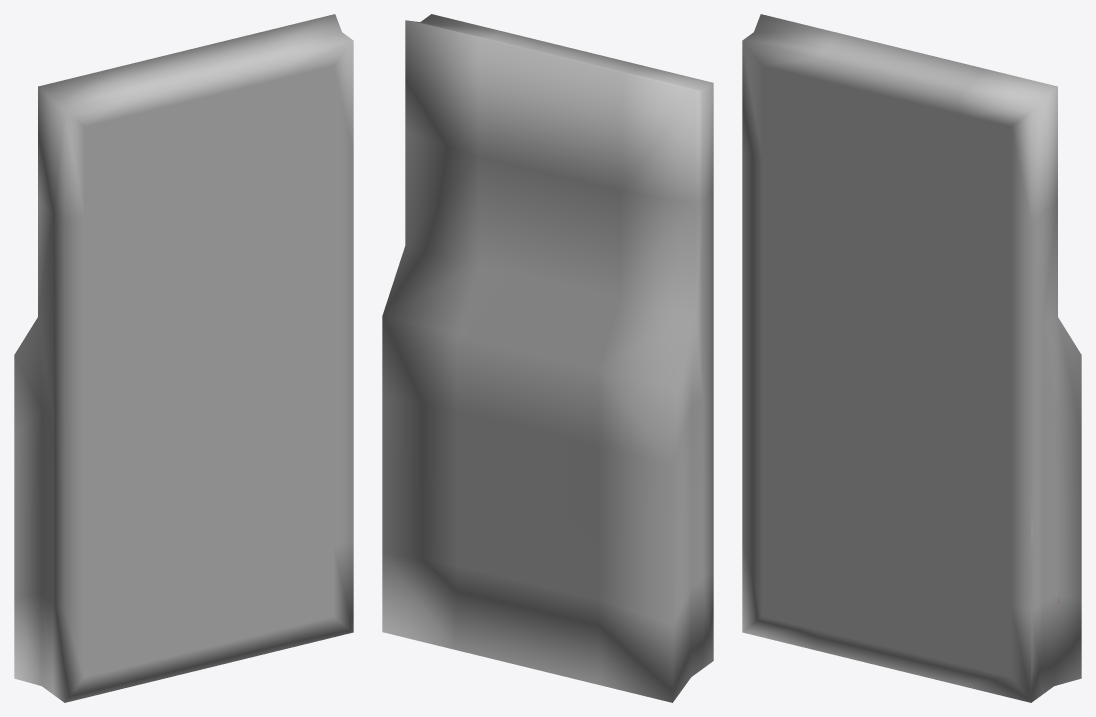
Rendered from maletica.fbx.
The picture shows the model from 3 angles, left to right: view 1: azimuth 30°, elevation 25°; view 2: azimuth 150°, elevation 25°; view 3: azimuth 330°, elevation 25°; orthographic projection. The views are drawn at different scales.
Parts seen in each view (by area): view 1: maletica; view 2: maletica; view 3: maletica.
Part boxes in pixels (x1,y1,x2,y2): maletica: (14, 14, 353, 702); maletica: (382, 14, 713, 702); maletica: (742, 14, 1081, 702).
Bounding box in the file's own units: 320 × 627 × 85.82.
